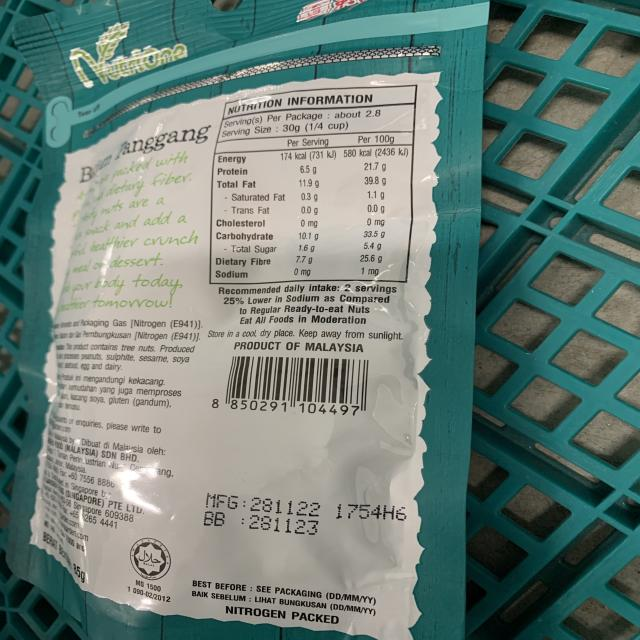object_name: (31, 7, 459, 640)
